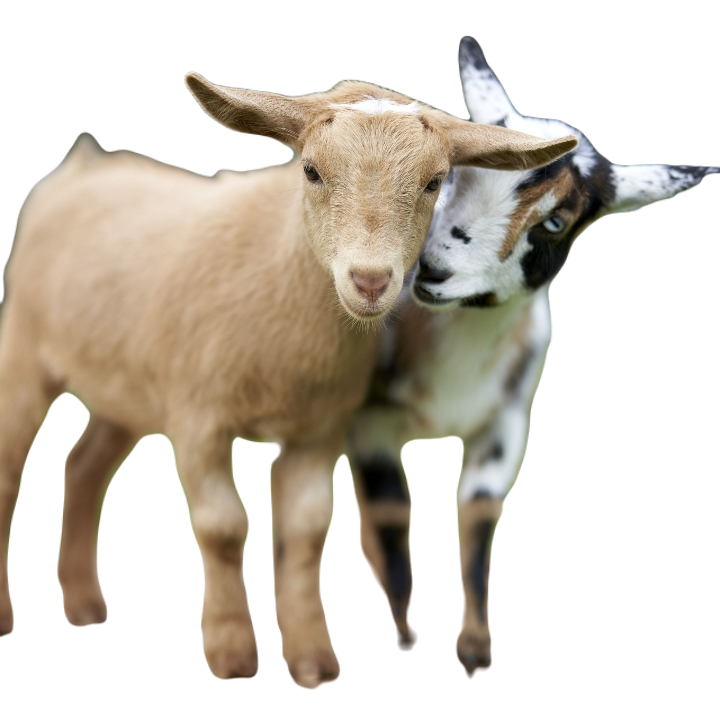Goat: (5, 36, 717, 682)
